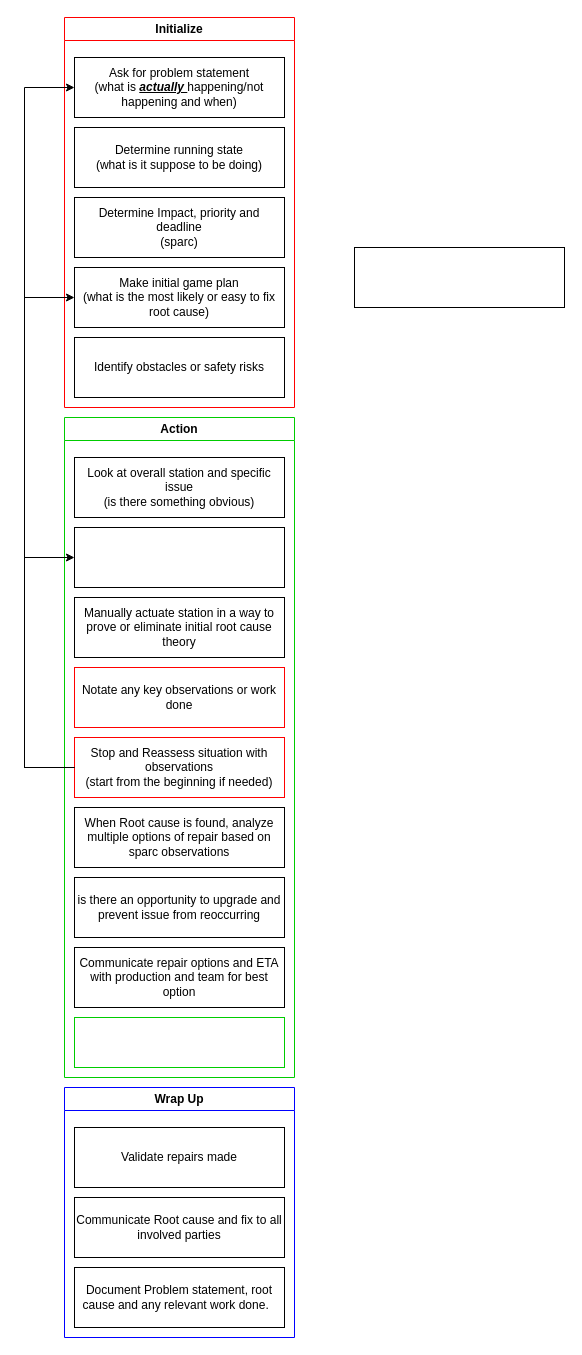
Some shapes in this 582 by 1355 pixel diagram are drawn without their labels. The shapes that lost their labels are listed below. From the top down, each one's centre as x and y in pixels, then its label:
At (x=459, y=277): "Analize alternatives".
At (x=179, y=557): "Observe issue (watch it run/ get to faulted state)".
At (x=179, y=1042): "FIX IT!!!!".
